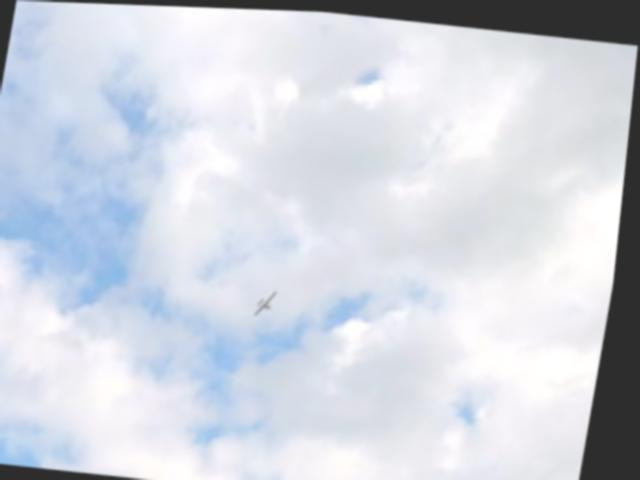uav: (258, 285, 284, 316)
